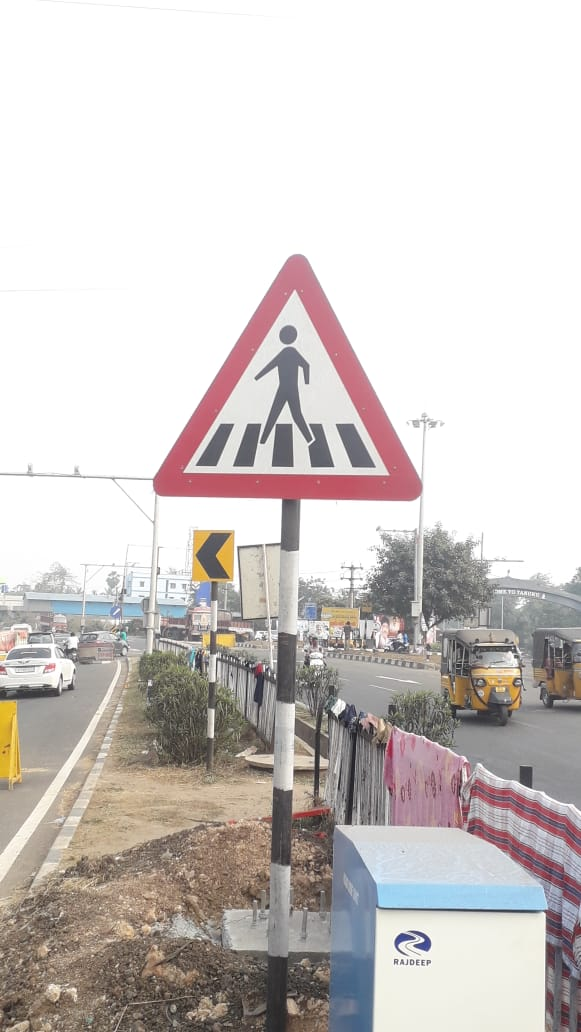pedestrian crossing: (144, 246, 427, 529)
